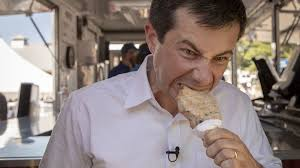eating: (117, 0, 264, 132)
